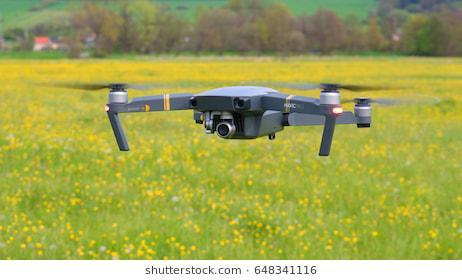drone: (21, 46, 445, 169)
